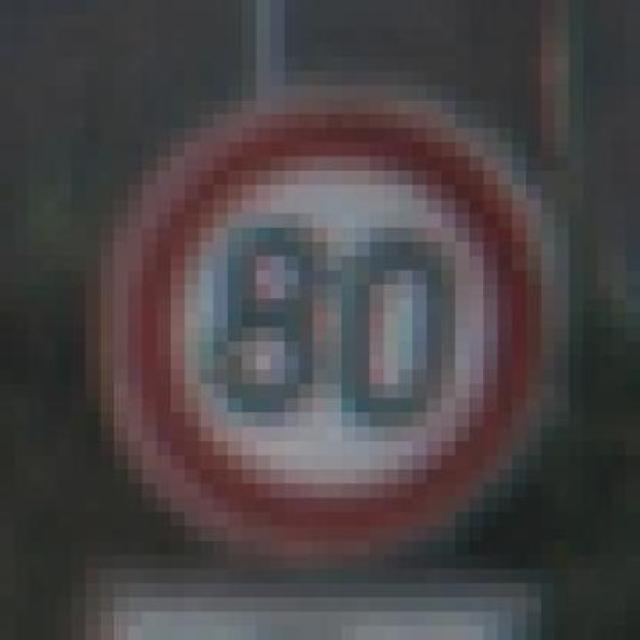forb_speed_over_80: (124, 108, 539, 549)
